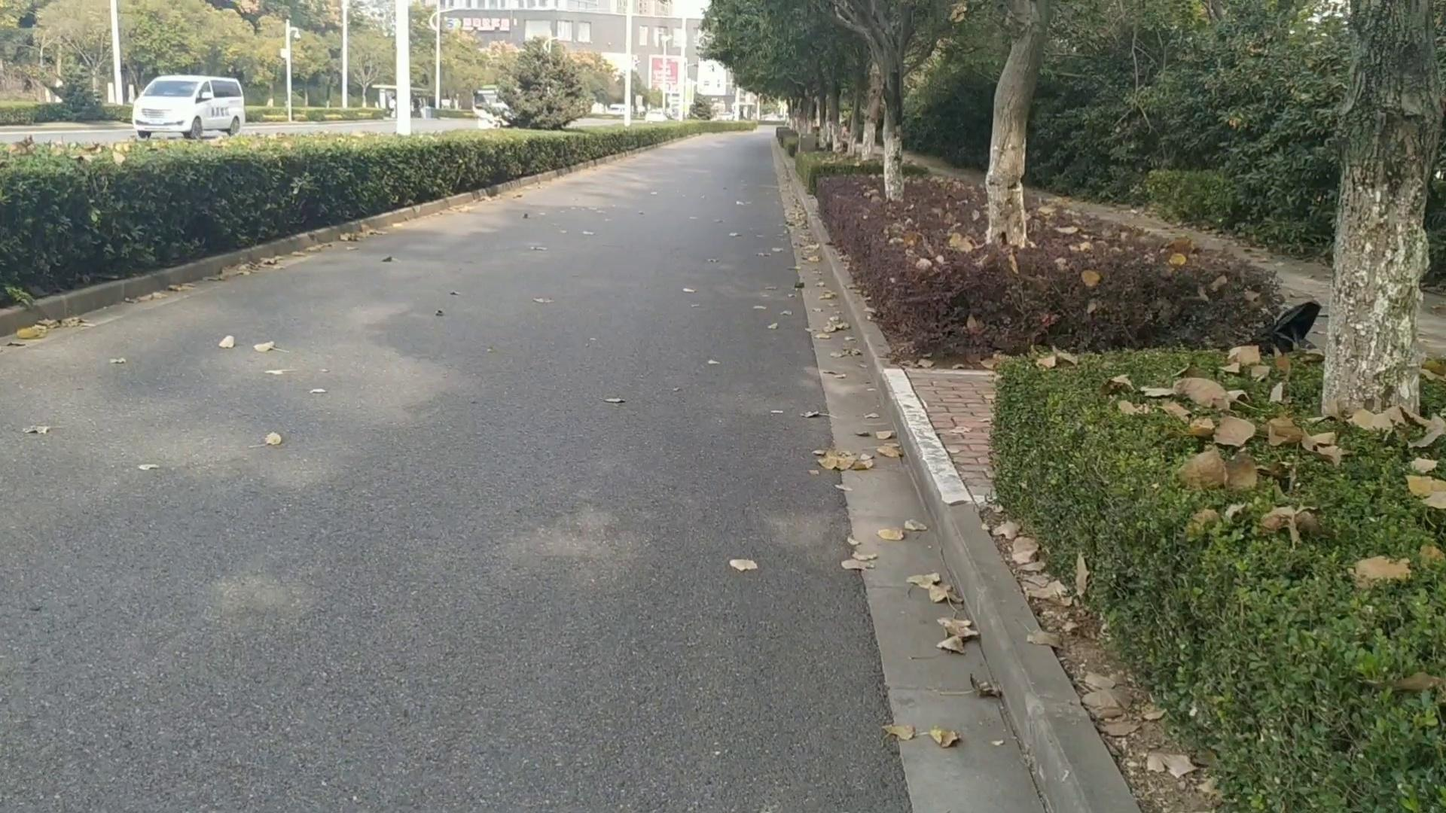car: (132, 76, 246, 142), (472, 87, 516, 125)
